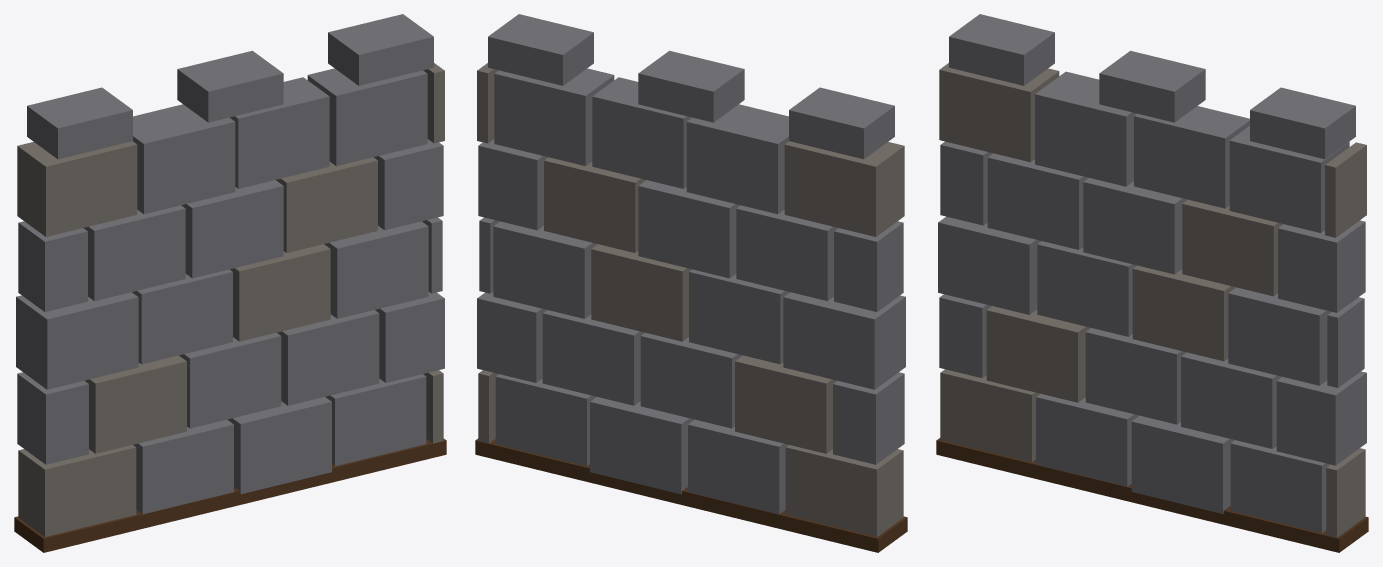
The model's file is WallStone.obj.
The picture shows the model from 3 angles, left to right: view 1: azimuth 30°, elevation 25°; view 2: azimuth 150°, elevation 25°; view 3: azimuth 330°, elevation 25°; orthographic projection.
Visible parts, largest first — view 1: WallStone; view 2: WallStone; view 3: WallStone.
Part boxes in pixels (bbox=[...]): WallStone: bbox=[14, 14, 446, 552]; WallStone: bbox=[475, 14, 907, 552]; WallStone: bbox=[936, 14, 1368, 552].
Size of the model in its own units: 3 by 3 by 0.4.
